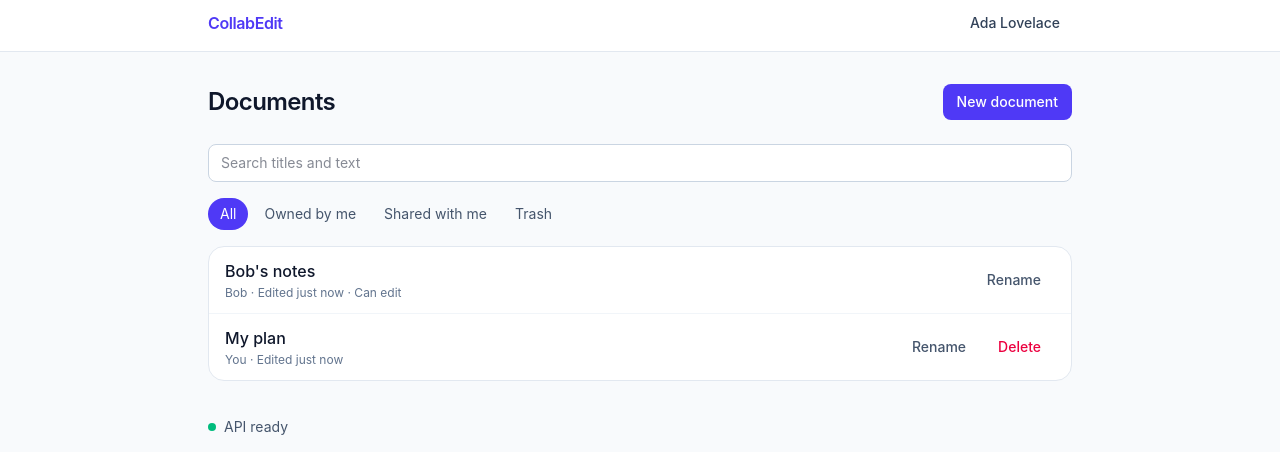
Scenario: dashboard search › searches once typing pauses and highlights the matched words
Check: the link "My plan" is shown, box [225, 328, 286, 348]
Type "  collab " into the search field named "Search documents" at {"x": 640, "y": 163}, box [208, 144, 1072, 182]
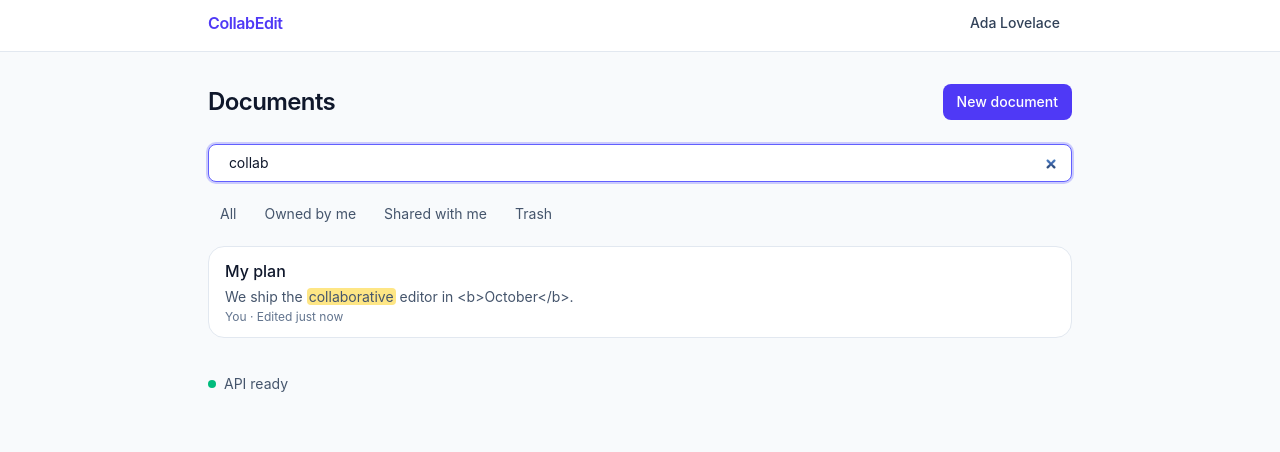
Check: the text "editor in <b>October</b>." is shown, box [396, 288, 574, 305]
